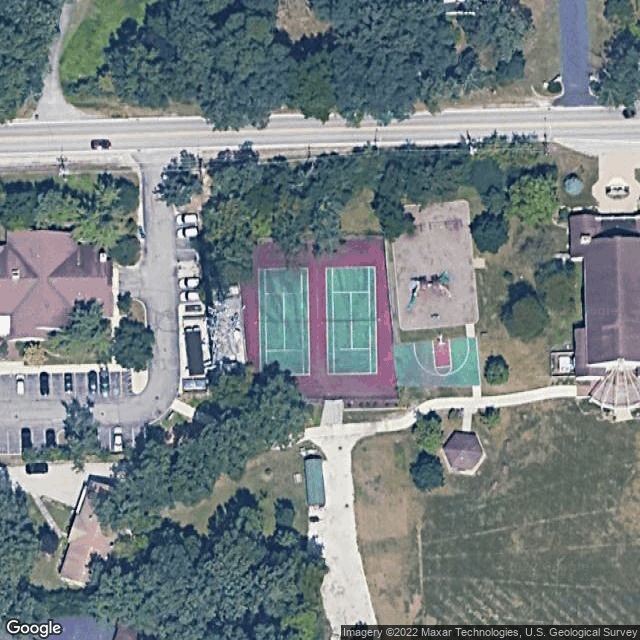Court: (256, 266, 312, 377), (323, 265, 378, 377)
